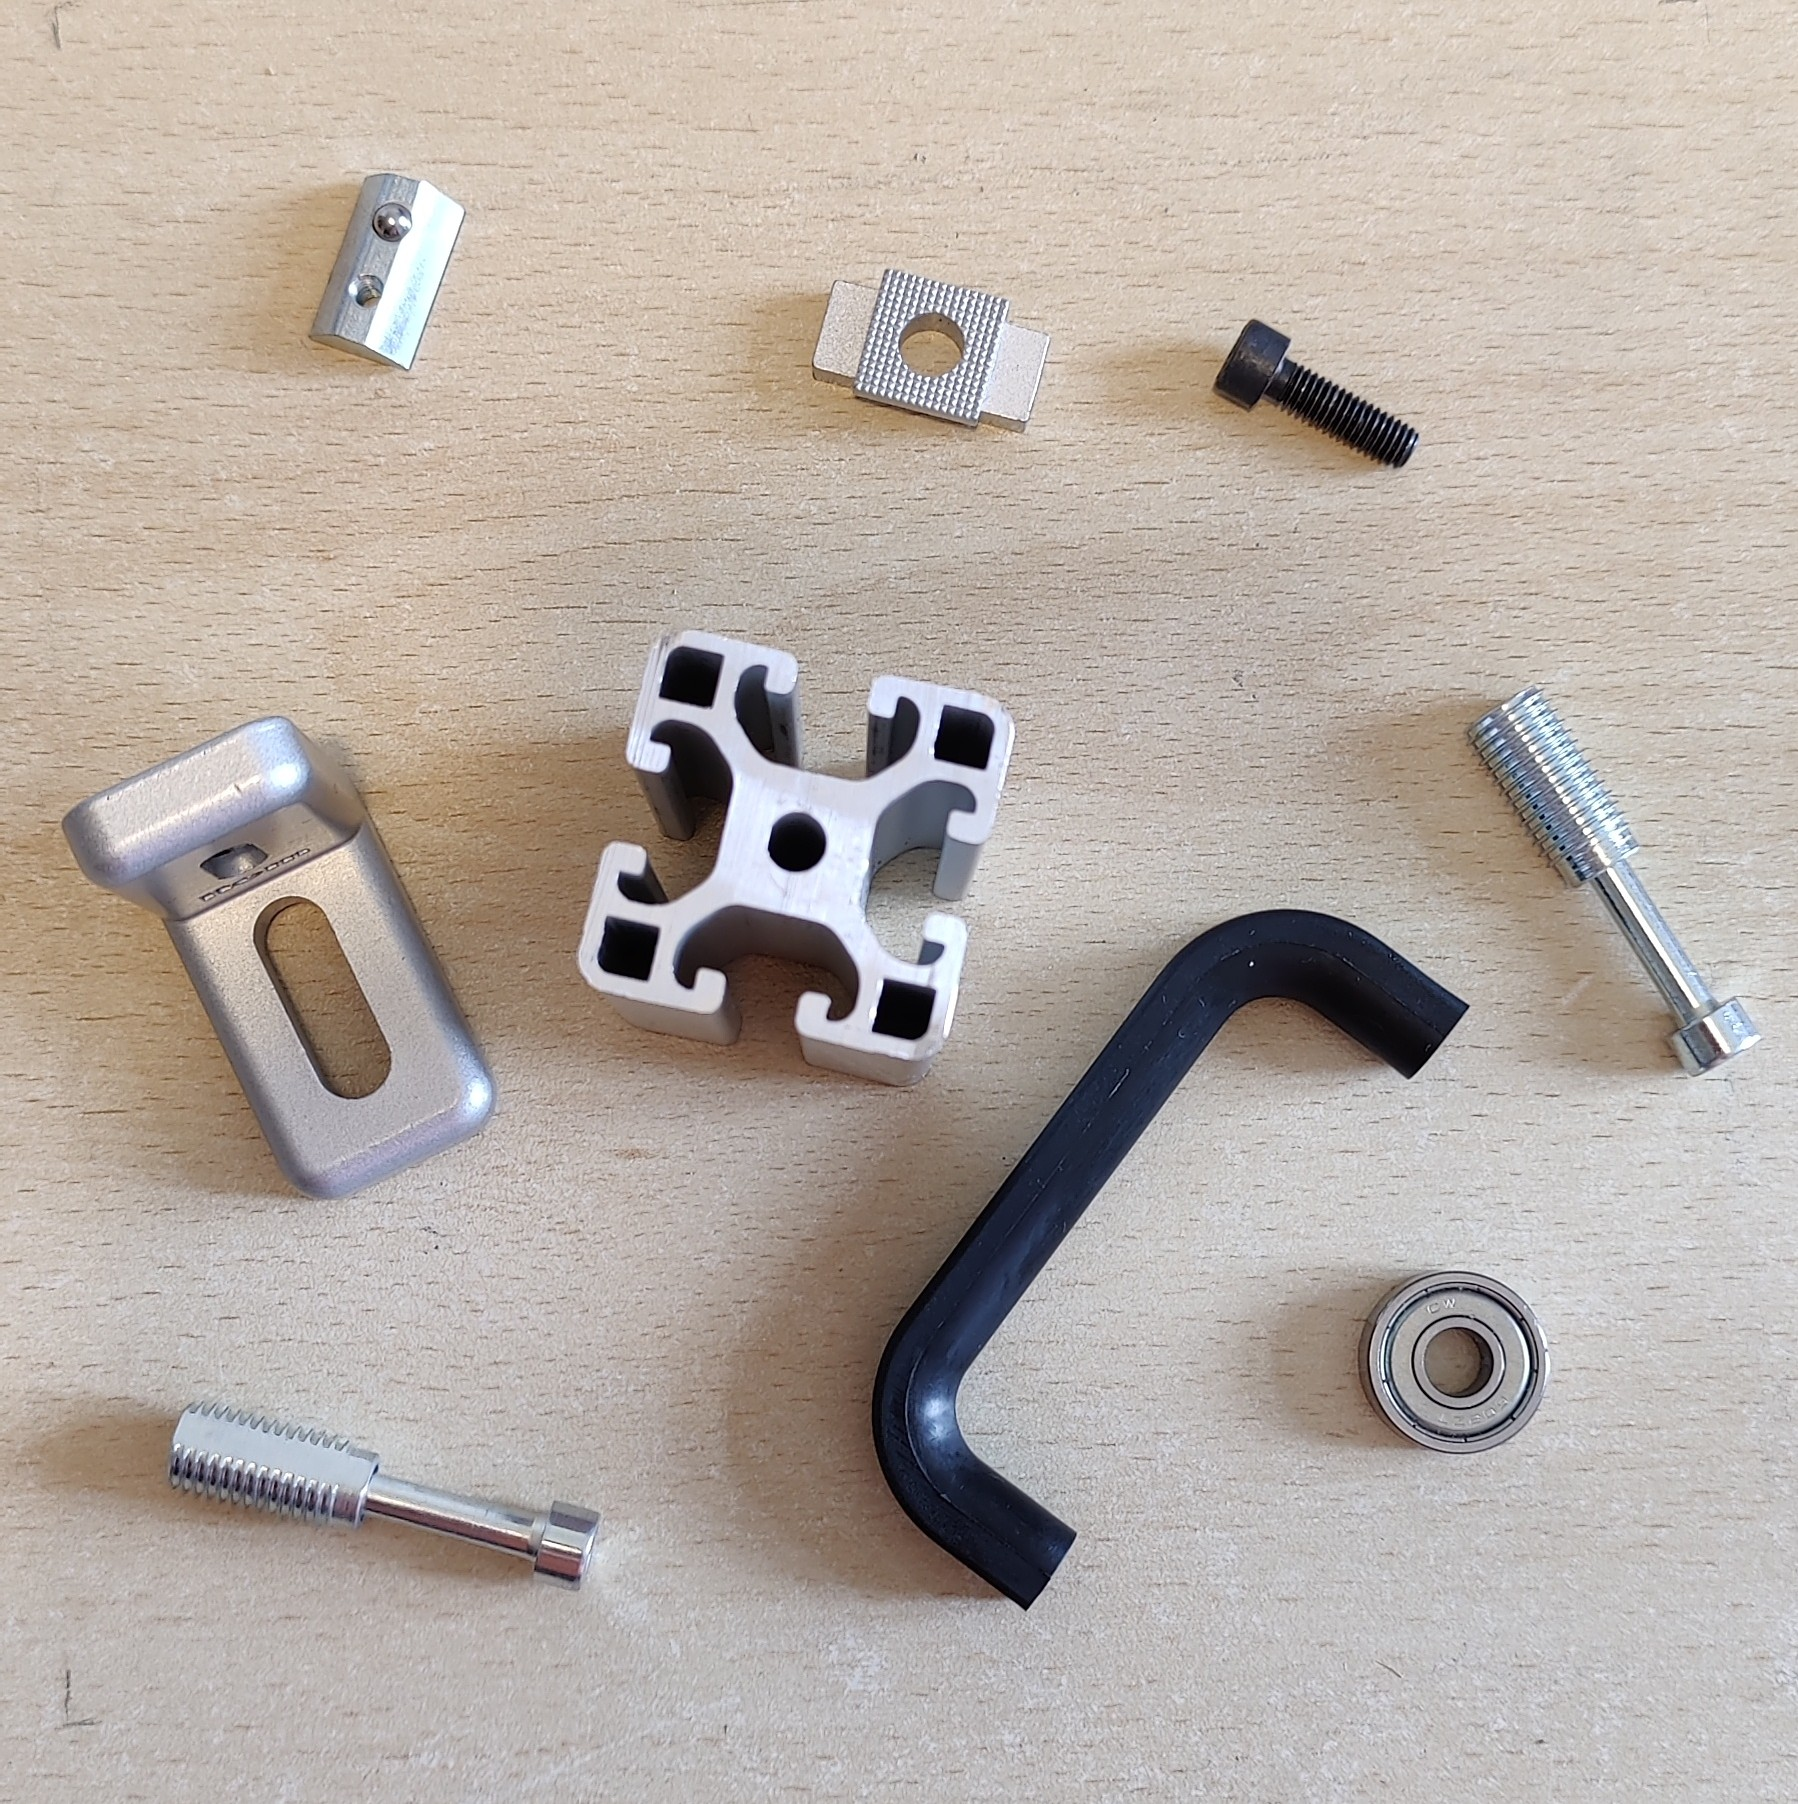Aluminium Extension: (575, 625, 1014, 1090)
Ball Bearing: (1353, 1266, 1548, 1458)
Multiwinkel: (56, 714, 499, 1203)
Pull Handle: (869, 907, 1469, 1615)
Shoulder Socket Head Cap Screw: (1456, 681, 1768, 1081), (163, 1397, 603, 1597)
Socket Head Cap Screw: (1207, 314, 1424, 472)
T Nut Square: (807, 263, 1055, 436)
T Spring Nut: (305, 171, 466, 377)
